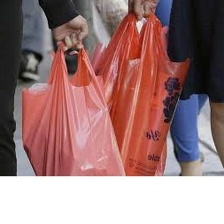plastic_bag: (75, 3, 195, 178), (15, 34, 130, 180)
